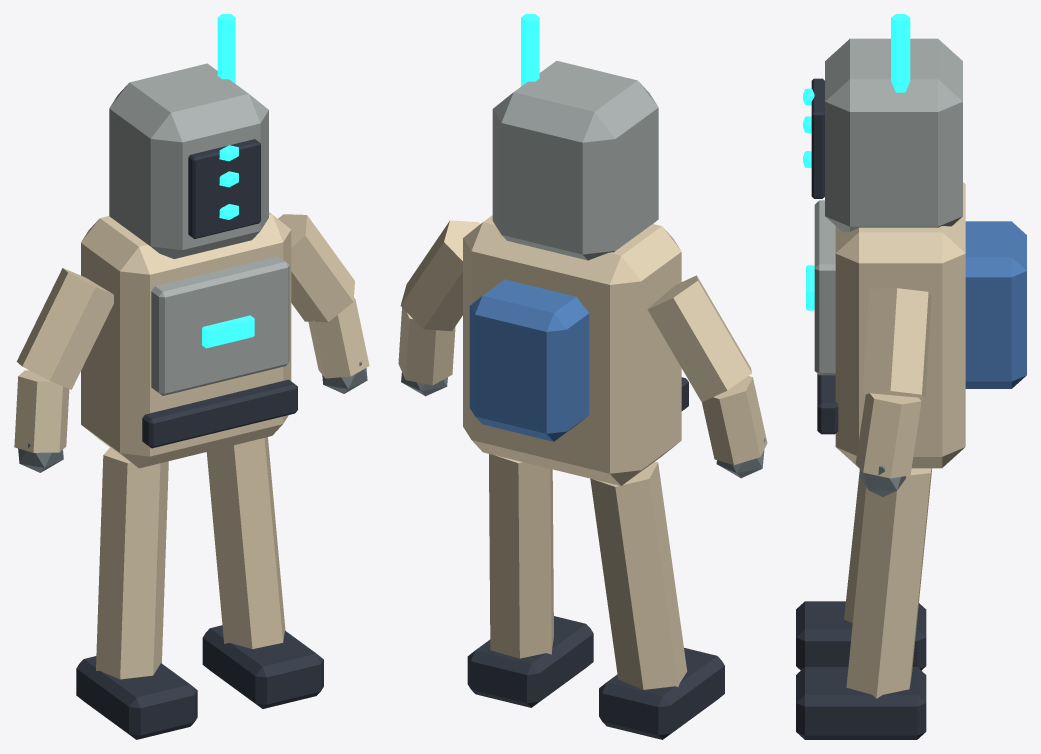
Rendered from npcs_031_seed11.glb.
The picture shows the model from 3 angles, left to right: view 1: azimuth 30°, elevation 25°; view 2: azimuth 150°, elevation 25°; view 3: azimuth 270°, elevation 25°; orthographic projection. The views are drawn at different scales.
Visible parts, largest first — view 1: npcs_031_seed11; view 2: npcs_031_seed11; view 3: npcs_031_seed11.
Boxes of the visible parts, x1,y1,x2,y2 form: npcs_031_seed11: [14, 14, 369, 739]; npcs_031_seed11: [398, 14, 767, 739]; npcs_031_seed11: [796, 14, 1026, 739].
Size of the model in its own units: 0.9743 by 1.75 by 0.5254.
